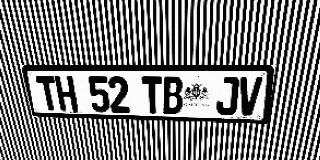2: (107, 76, 130, 113)
5: (88, 76, 111, 112)
B: (162, 77, 183, 114)
H: (54, 76, 78, 111)
J: (216, 77, 240, 115)
T: (35, 76, 60, 111), (141, 77, 162, 113)
V: (237, 77, 263, 116)
